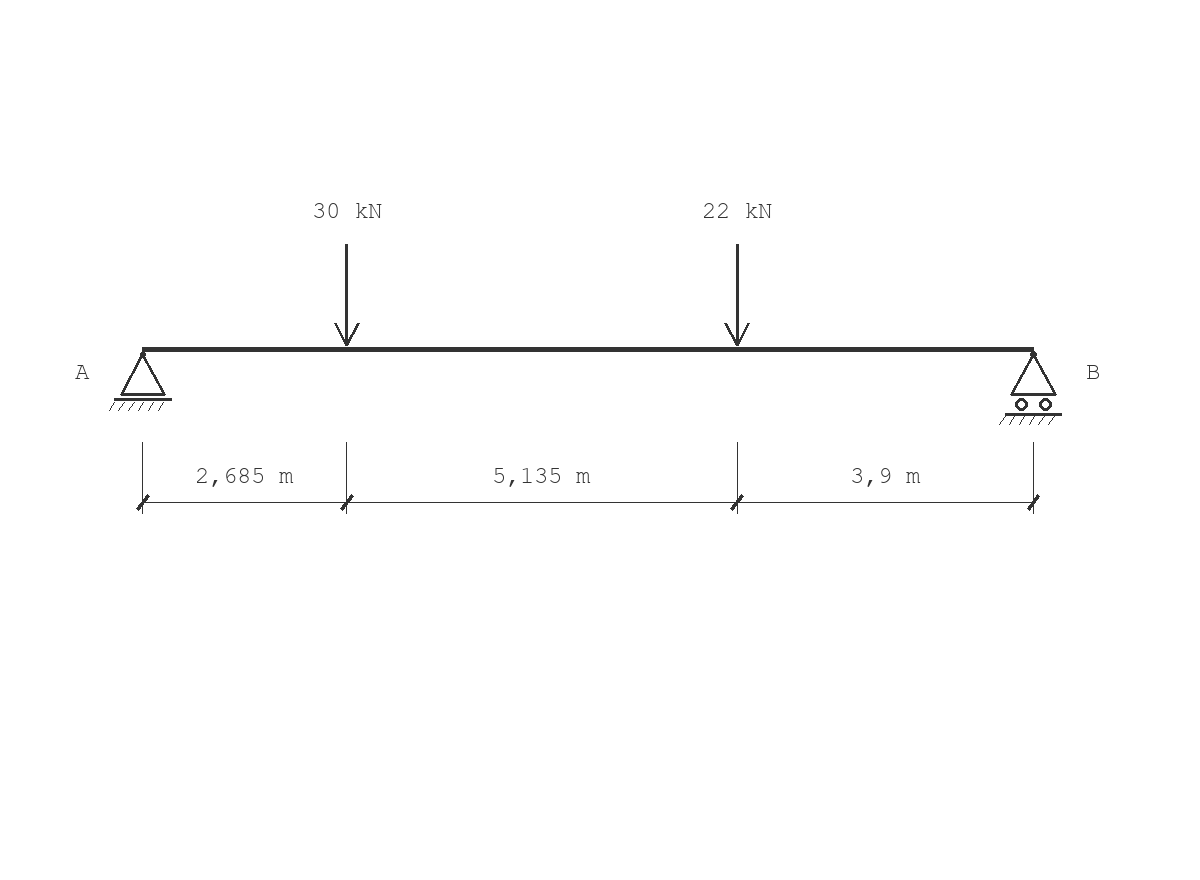pin_support: (109, 351, 172, 411)
point_load: (334, 244, 360, 346), (724, 244, 750, 346)
roller_support: (999, 351, 1062, 425)
